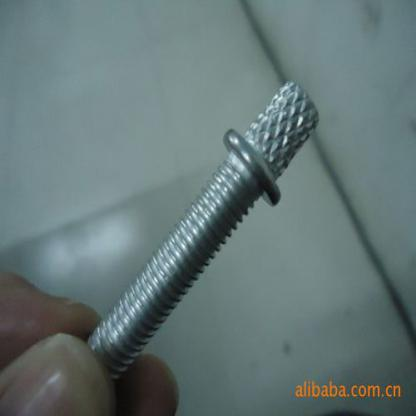FOD: (83, 76, 321, 380)
